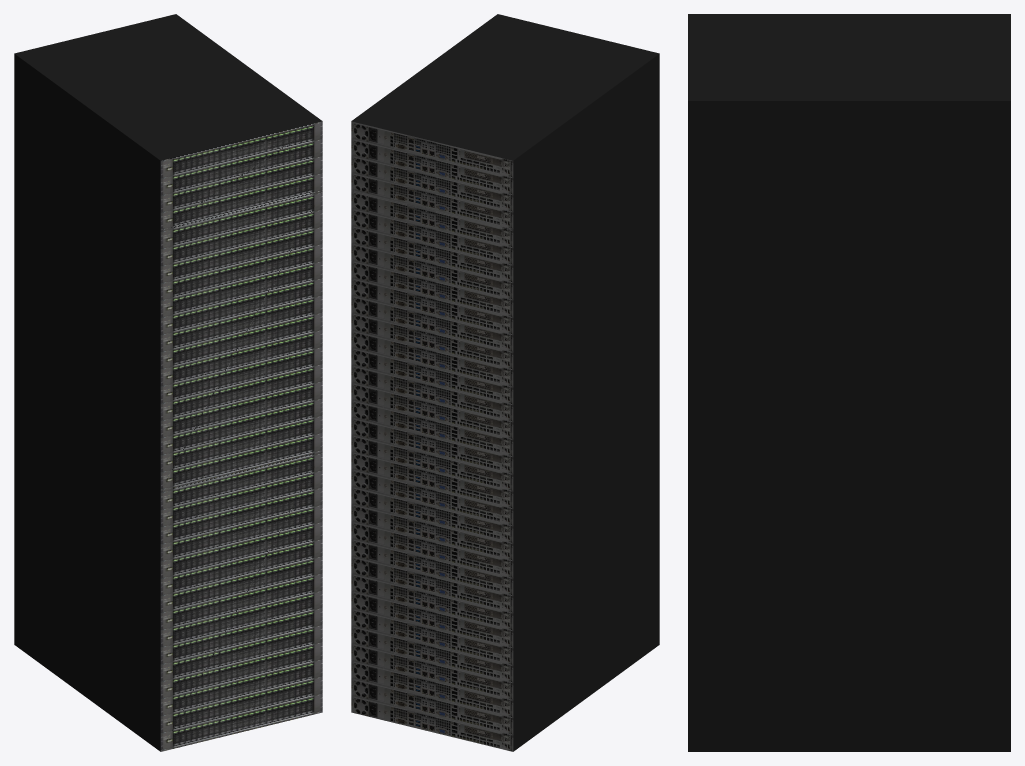
Rendered from CDR34.fbx.
The picture shows the model from 3 angles, left to right: view 1: azimuth 30°, elevation 25°; view 2: azimuth 150°, elevation 25°; view 3: azimuth 270°, elevation 25°; orthographic projection. The views are drawn at different scales.
Visible parts, largest first — view 1: CDR34; view 2: CDR34; view 3: CDR34.
Part boxes in pixels (x1,y1,x2,y2): CDR34: (14, 14, 322, 751); CDR34: (351, 14, 659, 751); CDR34: (688, 14, 1010, 751).
Bounding box in the file's own units: 434 × 1513 × 680.
3 materials, 2 textured.
